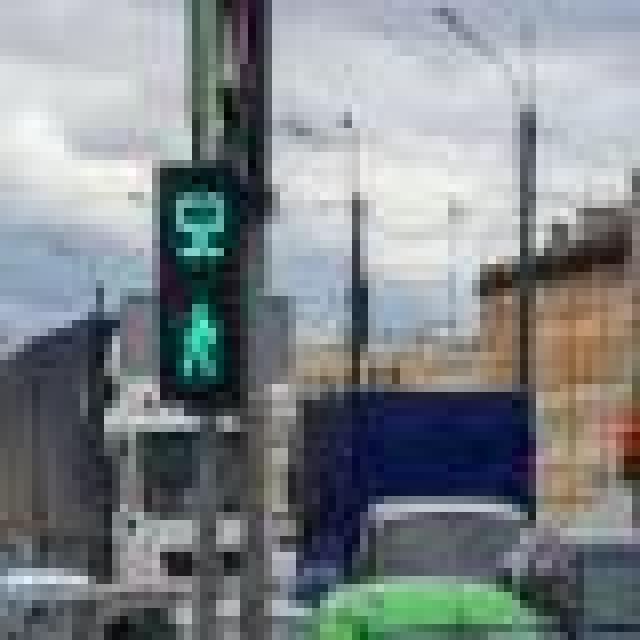greenlight: (150, 165, 248, 415)
